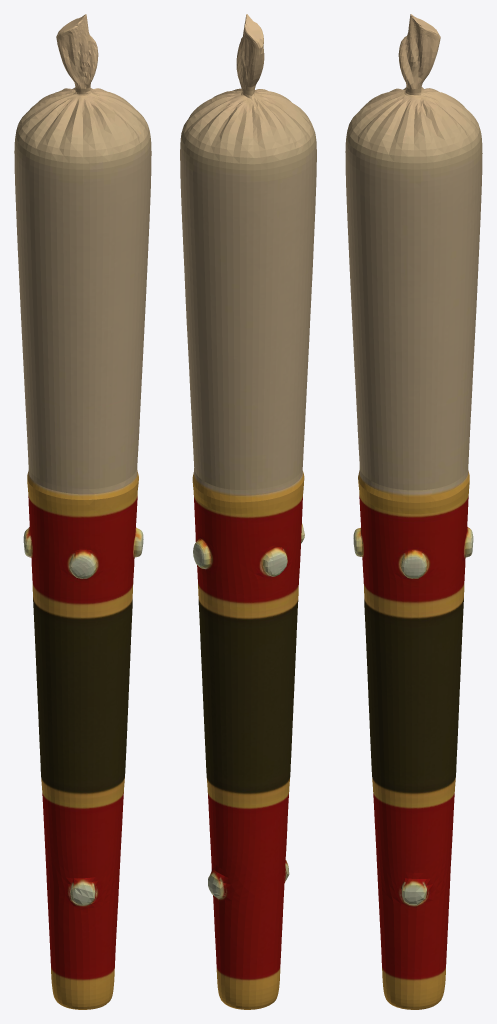
The model's file is dbccd8fd-e6af-47af-83d6-1397b1ec0272 (2).glb.
The picture shows the model from 3 angles, left to right: view 1: azimuth 90°, elevation 25°; view 2: azimuth 210°, elevation 25°; view 3: azimuth 270°, elevation 25°; orthographic projection.
Parts seen in each view (by area): view 1: tripo_node_931400af-002b-45f0-ab6a-ca9ff79da4ce; view 2: tripo_node_931400af-002b-45f0-ab6a-ca9ff79da4ce; view 3: tripo_node_931400af-002b-45f0-ab6a-ca9ff79da4ce.
Part boxes in pixels (bbox=[...]): tripo_node_931400af-002b-45f0-ab6a-ca9ff79da4ce: bbox=[14, 14, 151, 1009]; tripo_node_931400af-002b-45f0-ab6a-ca9ff79da4ce: bbox=[180, 14, 316, 1009]; tripo_node_931400af-002b-45f0-ab6a-ca9ff79da4ce: bbox=[345, 14, 482, 1009].
Size of the model in its own units: 0.126 by 0.9995 by 0.1259.
Materials: 1 (1 with a texture image).
